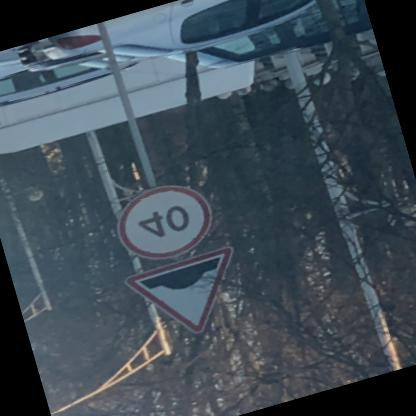speedlimit: (107, 177, 218, 271)
